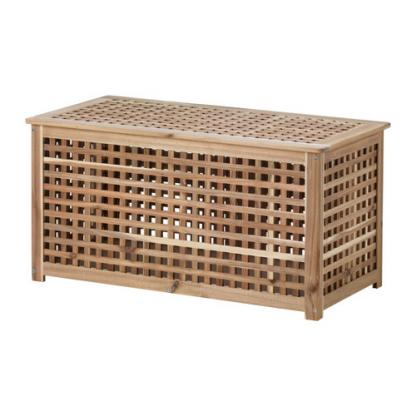Table: (20, 89, 396, 326)
